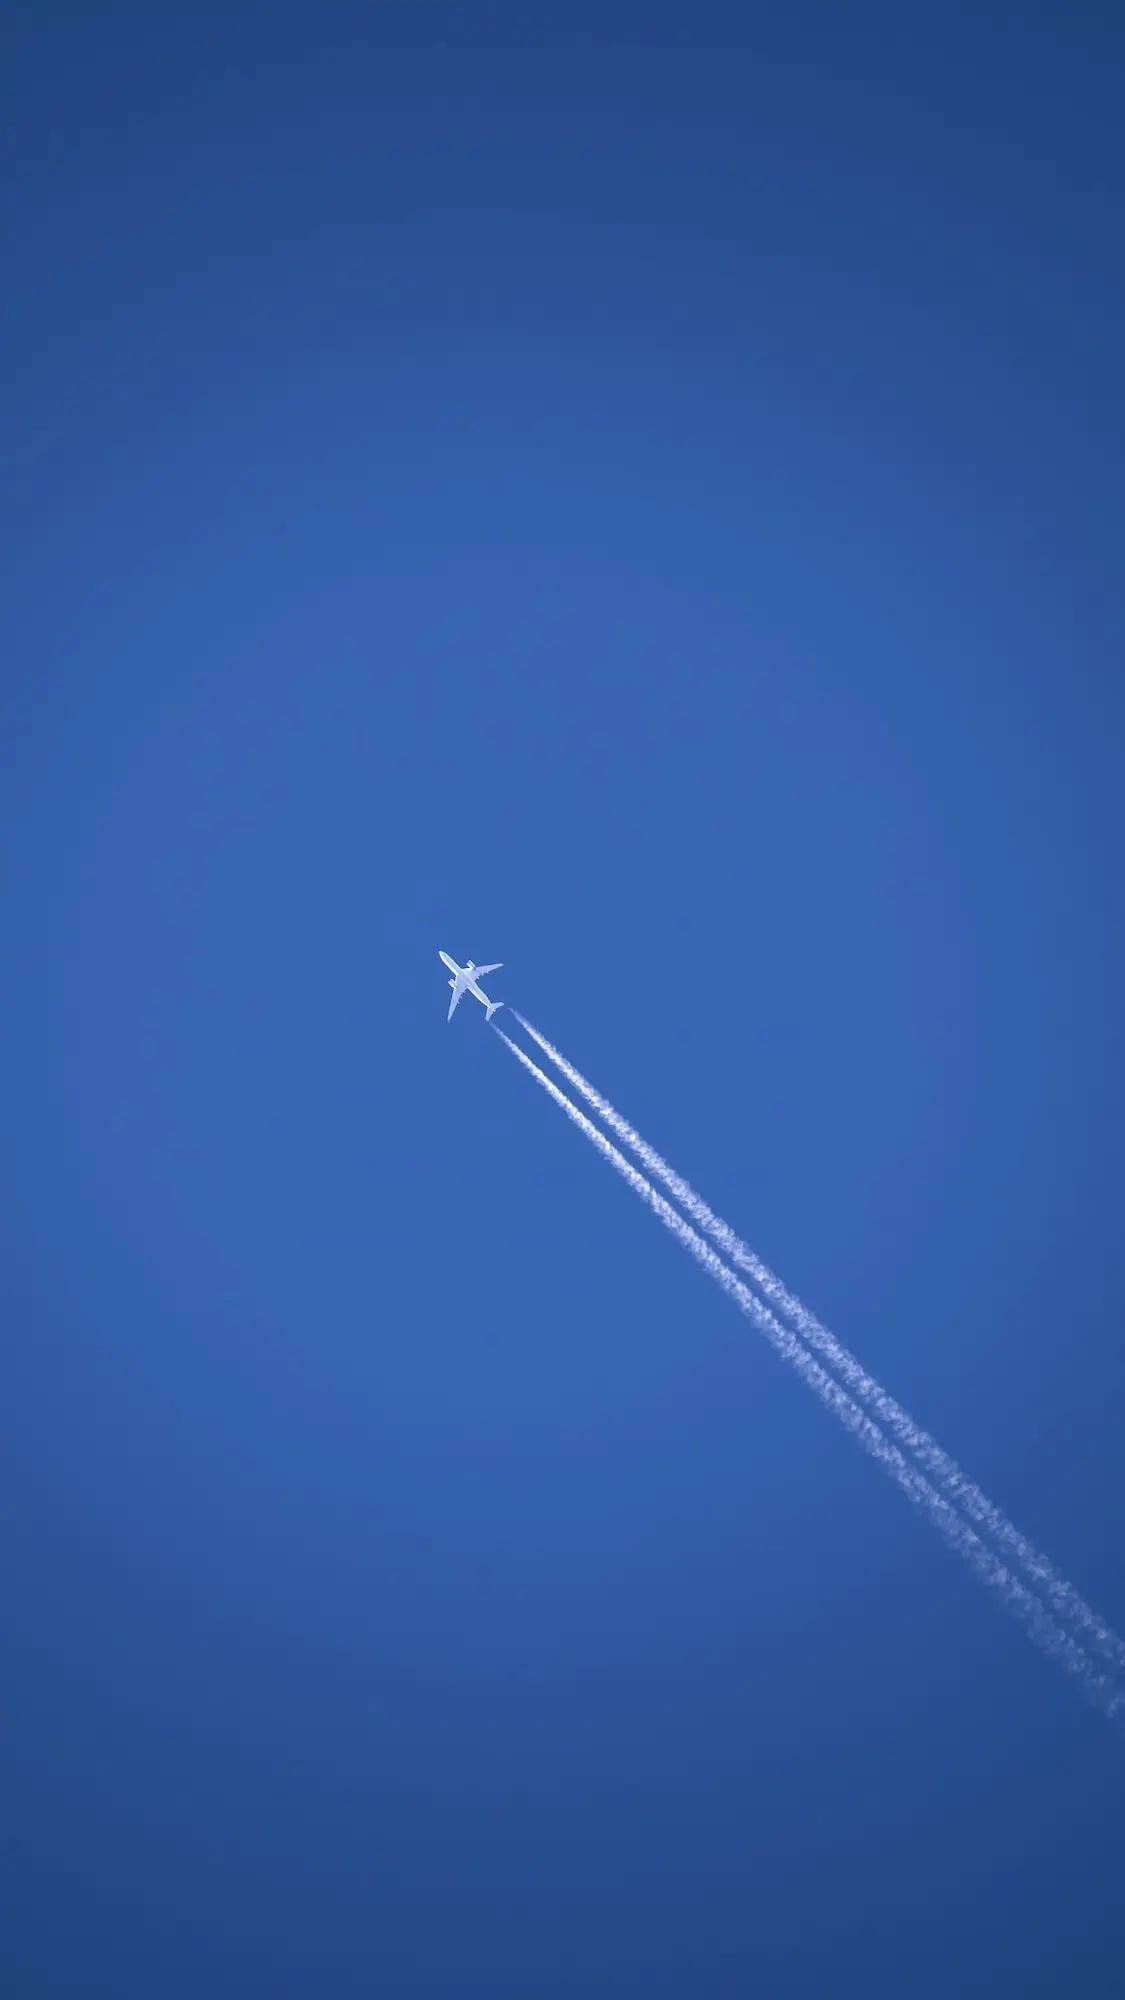Plane: (376, 920, 1049, 1473)
